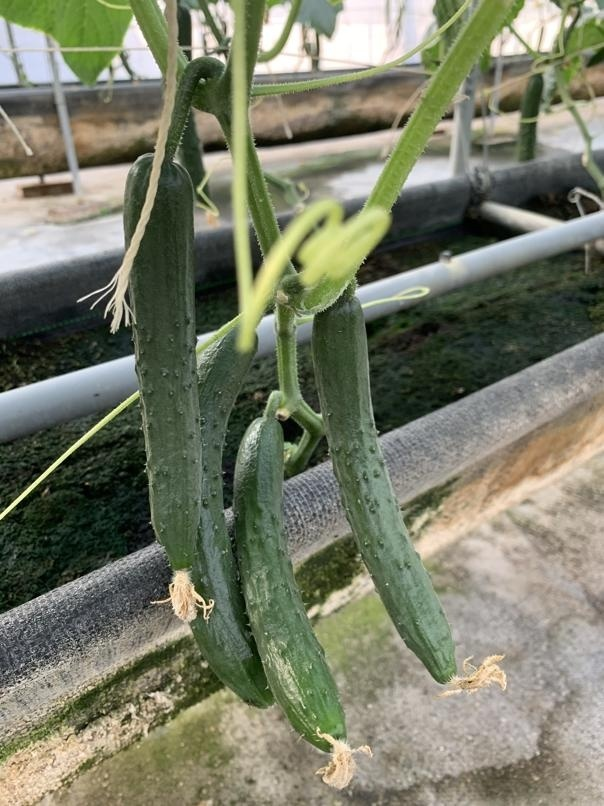mature: (305, 295, 464, 687), (232, 410, 351, 756), (179, 322, 271, 713), (119, 146, 198, 585)
